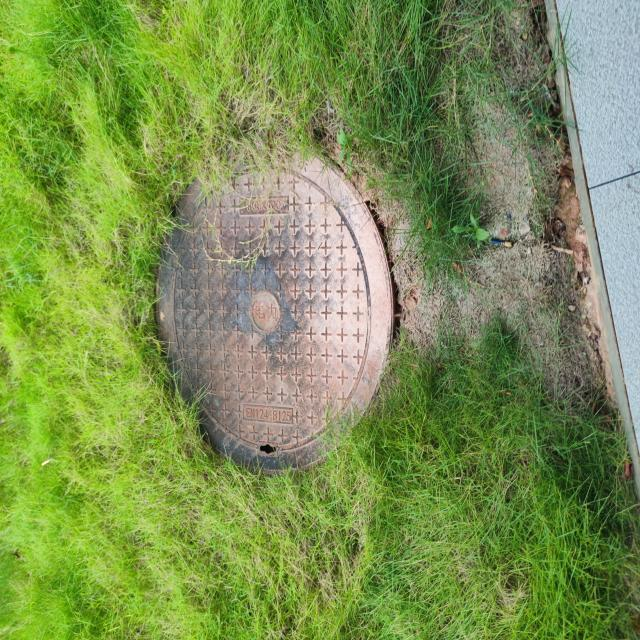Good: (144, 128, 406, 492)
